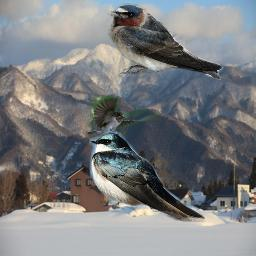Swallow: (89, 131, 206, 222), (106, 3, 223, 80), (86, 96, 161, 136)
